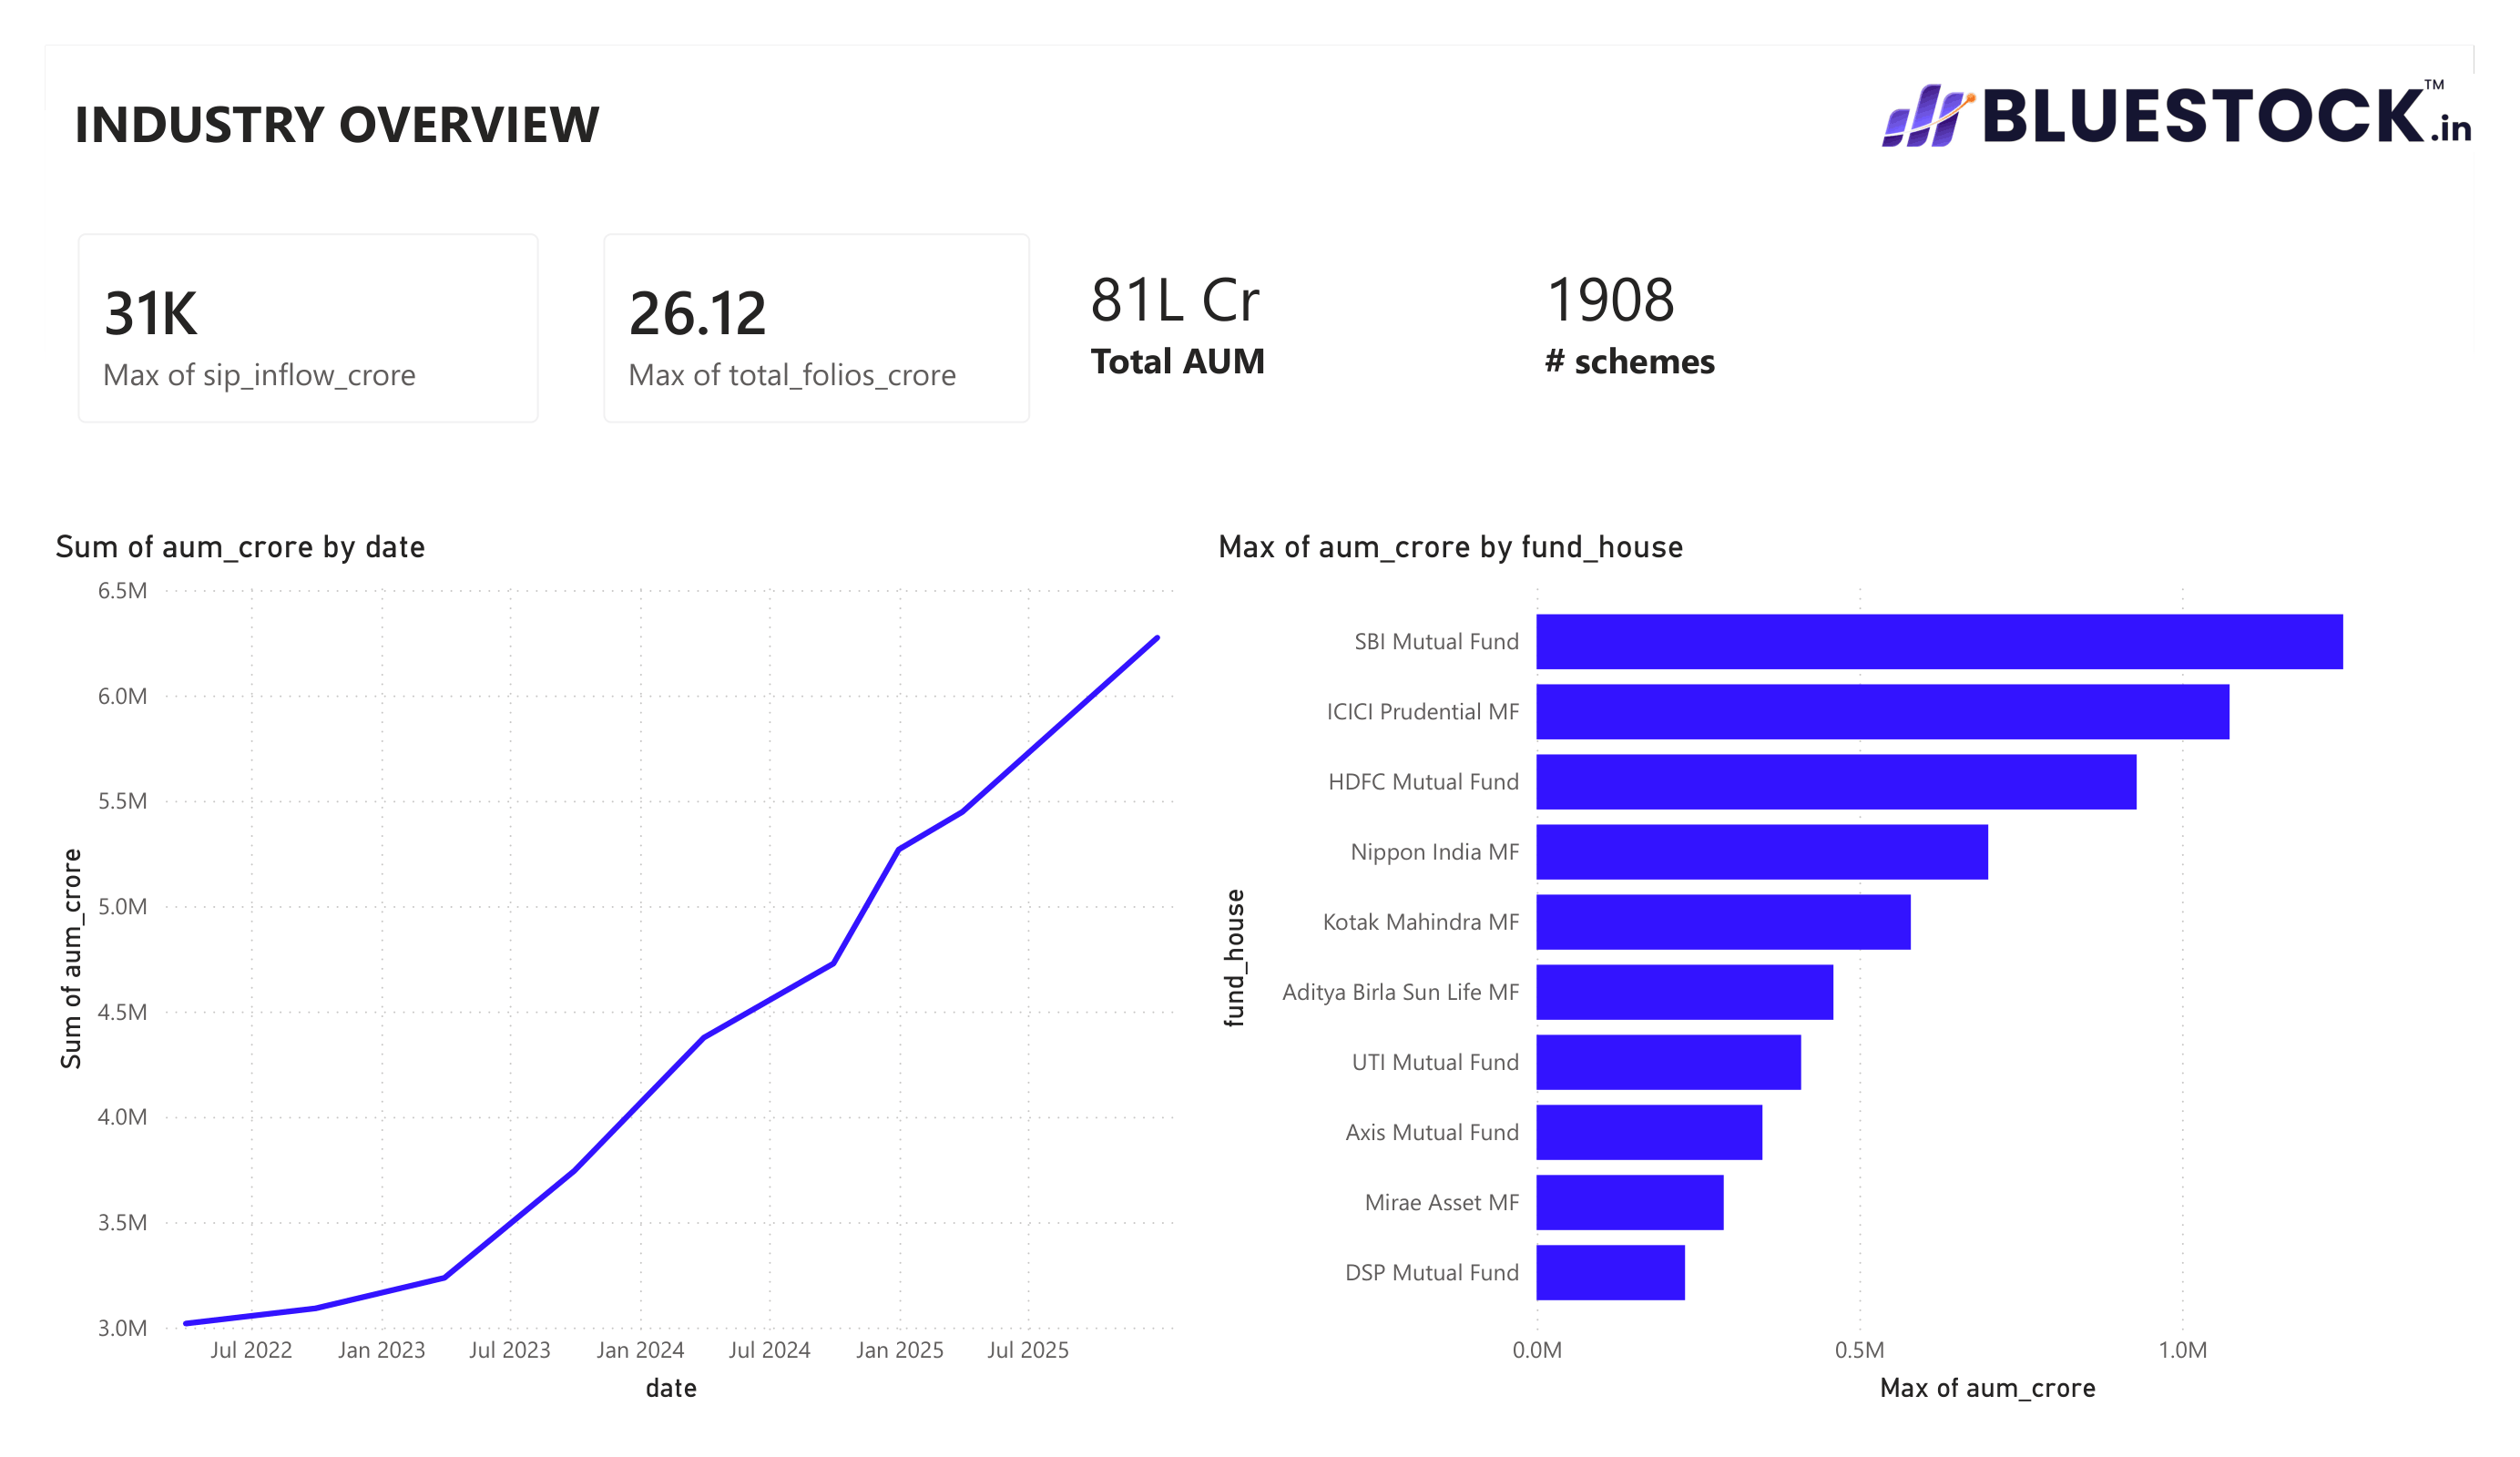

The page's visual inventory and layout, read from the dashboard file:
{"tool":"powerbi","page":{"name":"Page 1","canvas":[1280,720],"ordinal":0},"visuals":[{"type":"textbox","box":[10.4,0,321.4,81.7],"z":0},{"type":"cardVisual","fields":{"Data":["Max(clean_monthly_sip_inflows.sip_inflow_crore)"]},"box":[0,81.7,277.4,134.8],"z":1000},{"type":"cardVisual","fields":{"Data":["Max(clean_industry_folio_count.total_folios_crore)"]},"box":[277.4,81.7,259.2,134.8],"z":2000},{"type":"textbox","box":[536.6,88.1,248.8,128.3],"z":3000},{"type":"textbox","box":[785.4,88.1,224.2,128.3],"z":4000},{"type":"lineChart","fields":{"Y":["Sum(clean_aum_by_fund_house.aum_crore)"],"Category":["clean_aum_by_fund_house.date"]},"box":[0,254,613,466.6],"z":5000},{"type":"barChart","fields":{"Category":["clean_aum_by_fund_house.fund_house"],"Y":["Max(clean_aum_by_fund_house.aum_crore)"]},"box":[613,254,667.5,466.6],"z":6000},{"type":"image","box":[966.9,0,313.6,71.3],"z":6001}]}

Visuals, with their boxes on the page's 1280x720 design canvas (x1, y1, x2, y2). These are canvas units, not pixel positions in the 2520x1457 screenshot, which may show the page scaled, cropped or inside an application window:
textbox: x1=10, y1=0, x2=332, y2=82
cardVisual - Max(clean_monthly_sip_inflows.sip_inflow_crore): x1=0, y1=82, x2=277, y2=216
cardVisual - Max(clean_industry_folio_count.total_folios_crore): x1=277, y1=82, x2=537, y2=216
textbox: x1=537, y1=88, x2=785, y2=216
textbox: x1=785, y1=88, x2=1010, y2=216
lineChart - Sum(clean_aum_by_fund_house.aum_crore) x clean_aum_by_fund_house.date: x1=0, y1=254, x2=613, y2=721
barChart - clean_aum_by_fund_house.fund_house x Max(clean_aum_by_fund_house.aum_crore): x1=613, y1=254, x2=1280, y2=721
image: x1=967, y1=0, x2=1280, y2=71
